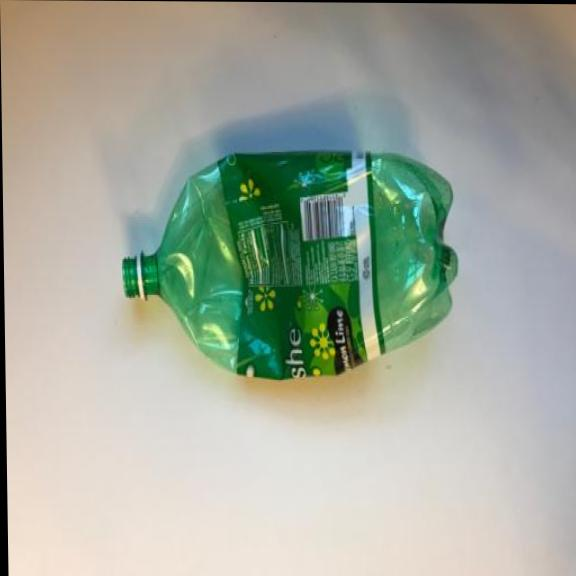Plastik: (119, 144, 465, 386)
